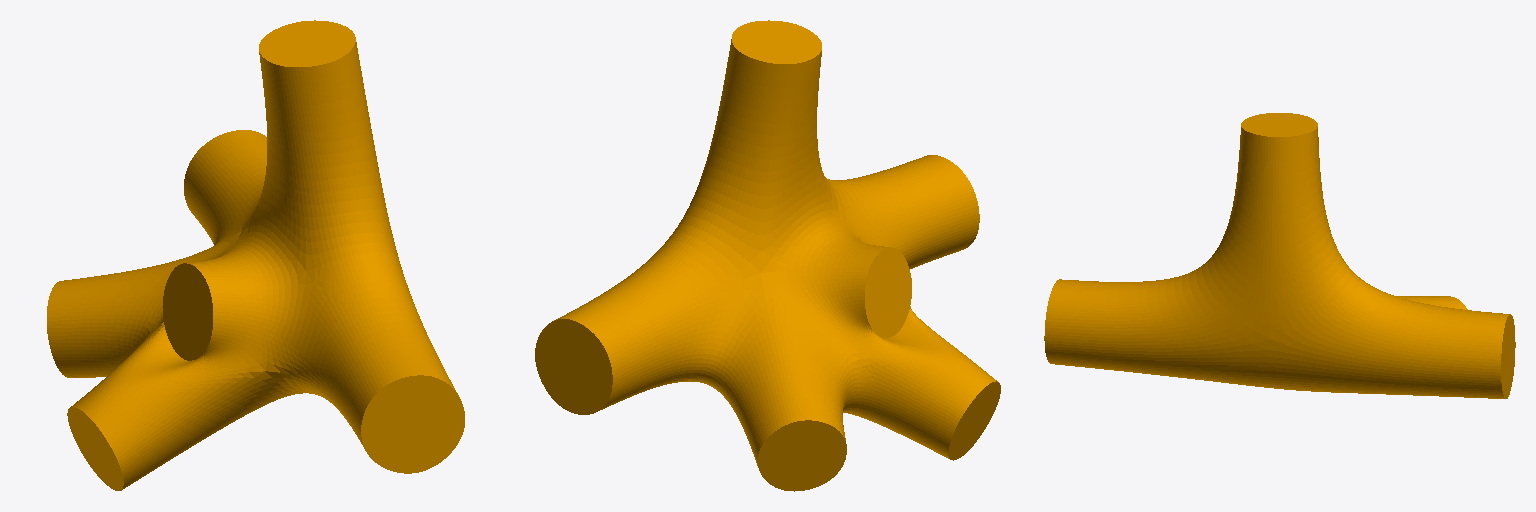
The robot description file, URDF, robot "object":
<robot name="object">
  <link name="object">
    <visual>
      <origin xyz="0 0 0"/>
      <geometry>
        <mesh filename="visual.obj" scale="1 1 1"/>
      </geometry>
    </visual>
    <collision>
      <origin xyz="0 0 0"/>
      <geometry>
        <mesh filename="visual.obj" scale="1 1 1"/>
      </geometry>
    </collision>
    <inertial>
      <mass value="0.05"/>
      <inertia ixx="5.3538475136109894e-05" iyy="3.209936699553366e-05" izz="5.167688533789059e-05" ixy="-2.7174649925651453e-06" ixz="-6.911057097357461e-06" iyz="3.0641686713800033e-06"/>
    </inertial>
  </link>
</robot>

--- What the picture shows (computed from the rendered views, not written in the file) ---
Views: 3 orthographic renders of the robot side by side, from view 1: azimuth 30°, elevation 25°; view 2: azimuth 150°, elevation 25°; view 3: azimuth 270°, elevation 25°.
Robot: object — 1 links, 0 joints (none); root link object; default pose: all joints at 0.
Links seen in each view (by area): view 1: object; view 2: object; view 3: object.
Boxes of the visible links, box(x1,y1,x2,y2) form: object: box(47, 20, 464, 490); object: box(535, 20, 1000, 491); object: box(1044, 113, 1515, 398).
Size in the robot's own frame: 0.0906 by 0.1364 by 0.1008 metres.
Meshes: 1 distinct files referenced, 1 mesh visuals loaded (1 OBJ).
